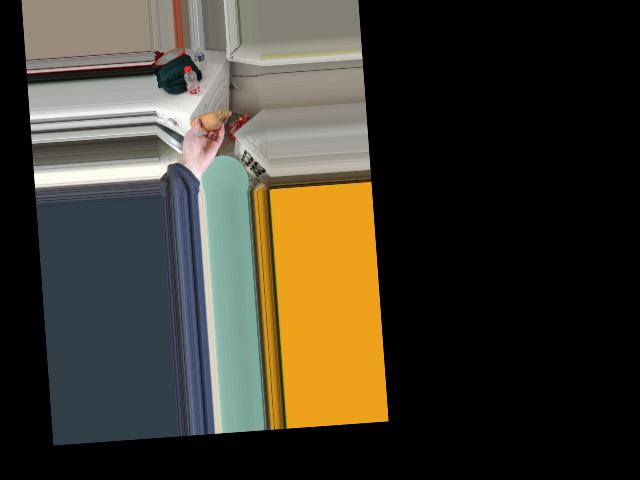sweet_potato: (192, 110, 224, 130)
